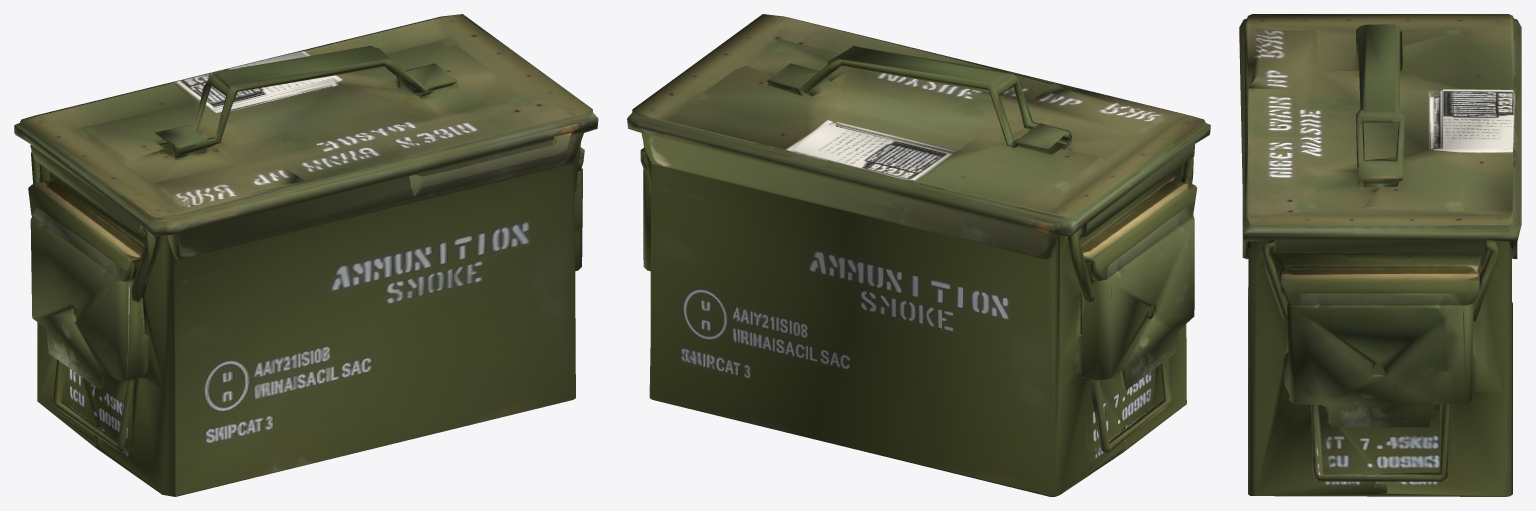
The model's file is ip_can.glb.
3 views of the same model, side by side, from view 1: azimuth 30°, elevation 25°; view 2: azimuth 150°, elevation 25°; view 3: azimuth 270°, elevation 25° (orthographic).
Parts seen in each view (by area): view 1: O_ip_can__Body; view 2: O_ip_can__Body; view 3: O_ip_can__Body.
Boxes of the visible parts, left/top/right/bottom form: O_ip_can__Body: left=14, top=14, right=598, bottom=496; O_ip_can__Body: left=627, top=14, right=1210, bottom=496; O_ip_can__Body: left=1239, top=14, right=1521, bottom=496.
Bounding box in the file's own units: 0.8539 × 0.5962 × 0.4541.
Materials: 1 (1 with a texture image).
